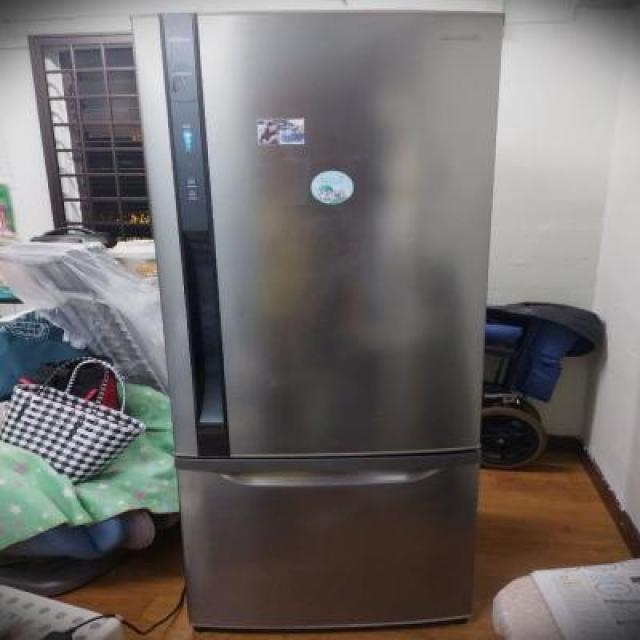refrigerator: (134, 8, 509, 632)
